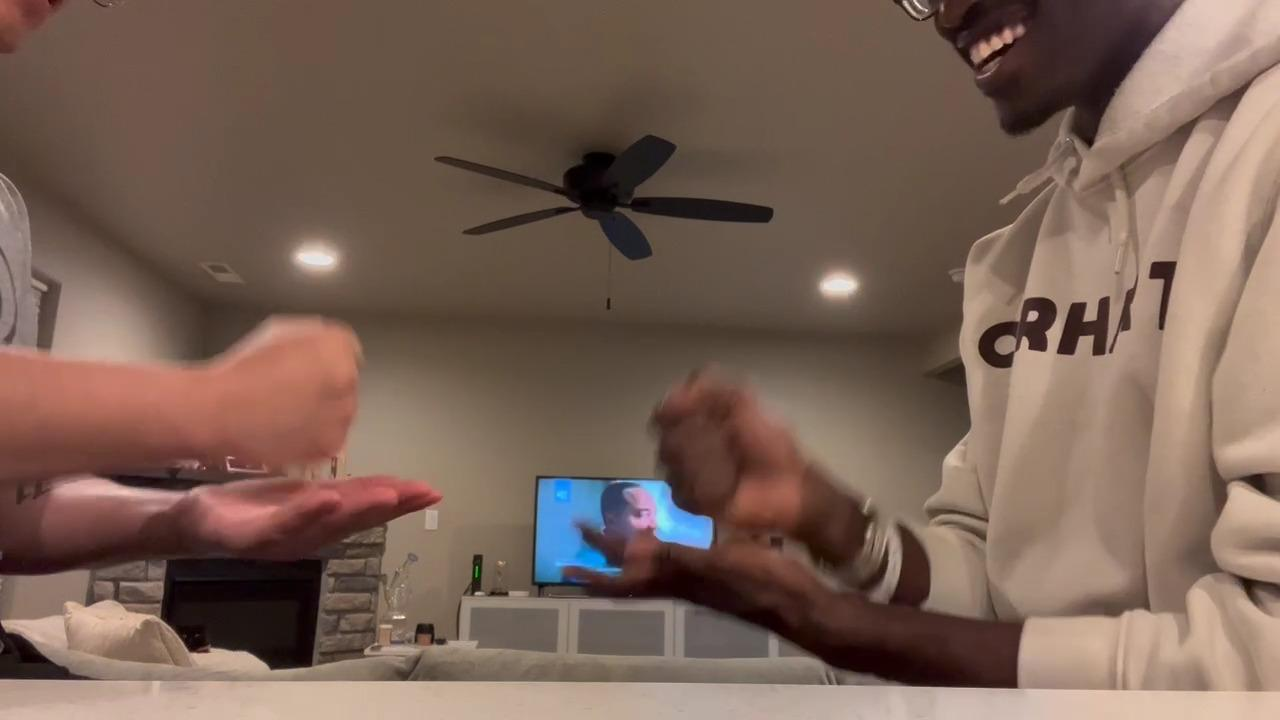Rock: (650, 370, 802, 534), (213, 317, 367, 478)
